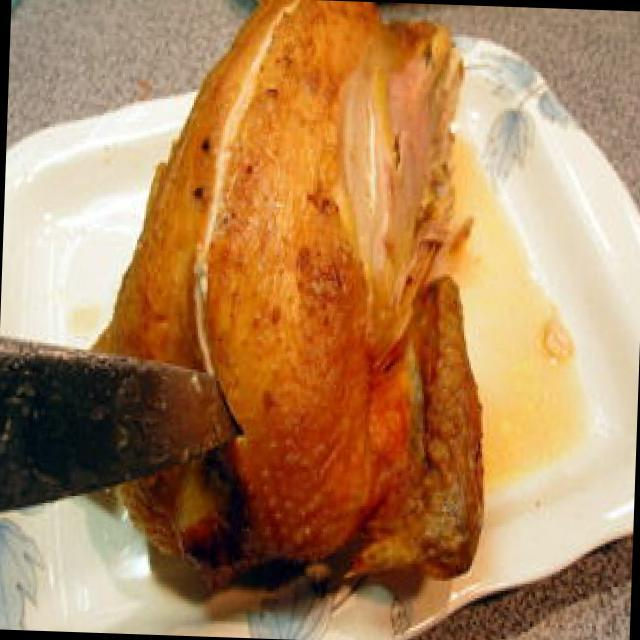Chicken: (194, 0, 504, 588)
